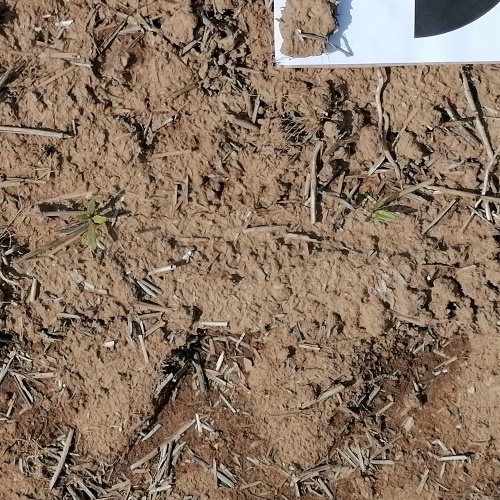beet: (74, 200, 106, 249), (364, 195, 398, 222)
